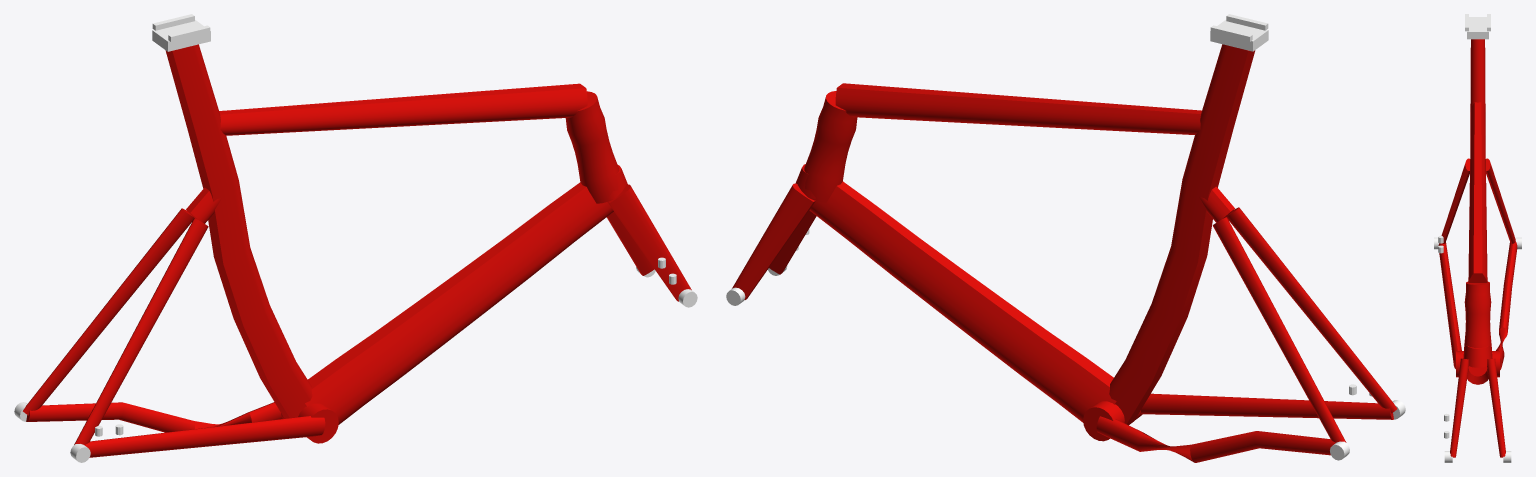
File: frame_aero.glb
3 views of the same model, side by side, from view 1: azimuth 30°, elevation 25°; view 2: azimuth 150°, elevation 25°; view 3: azimuth 270°, elevation 25° (orthographic). The views are drawn at different scales.
Visible parts, largest first — view 1: Bike_Aero_Frameset; view 2: Bike_Aero_Frameset; view 3: Bike_Aero_Frameset.
Part boxes in pixels (box(x1,y1,x2,y2)): Bike_Aero_Frameset: box(14, 14, 697, 462); Bike_Aero_Frameset: box(726, 14, 1405, 462); Bike_Aero_Frameset: box(1434, 14, 1521, 462).
Bounding box in the file's own units: 1.02 × 0.6909 × 0.174.
